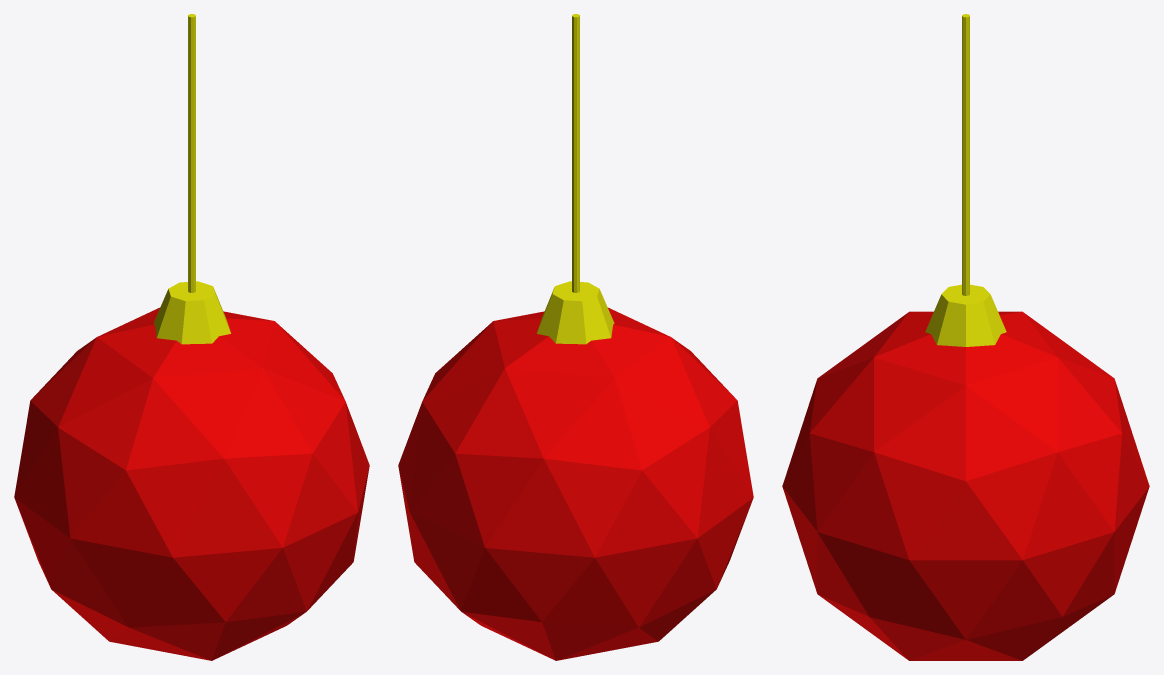
Rendered from XMasBulb.fbx.
The picture shows the model from 3 angles, left to right: view 1: azimuth 30°, elevation 25°; view 2: azimuth 150°, elevation 25°; view 3: azimuth 270°, elevation 25°; orthographic projection.
Parts seen in each view (by area): view 1: XMasBulb; view 2: XMasBulb; view 3: XMasBulb.
Boxes of the visible parts, x1,y1,x2,y2 form: XMasBulb: (14,14,369,660); XMasBulb: (398,14,753,660); XMasBulb: (782,14,1149,660).
Size of the model in its own units: 16.59 by 33.38 by 17.45.
